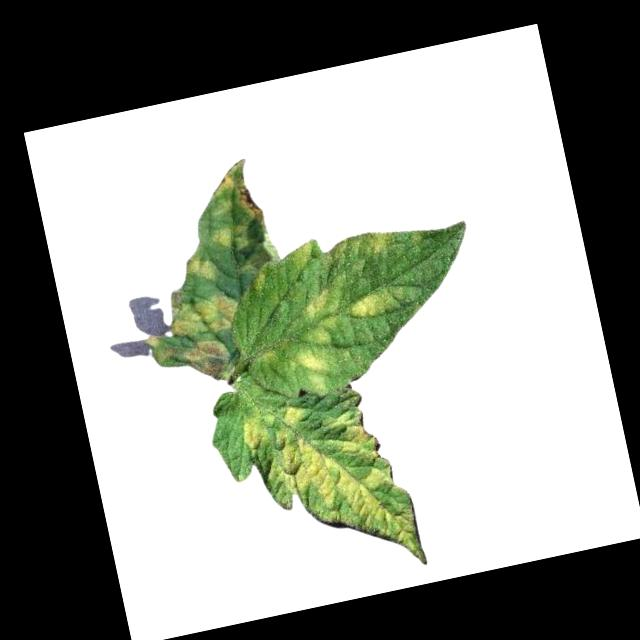Leaf_Mold: (241, 384, 427, 595), (162, 277, 243, 343), (200, 154, 264, 228), (179, 336, 233, 388), (291, 346, 333, 399), (292, 282, 340, 324), (284, 238, 321, 275), (210, 221, 250, 255), (299, 317, 341, 349), (348, 289, 387, 320), (182, 249, 215, 283), (365, 230, 389, 257)
